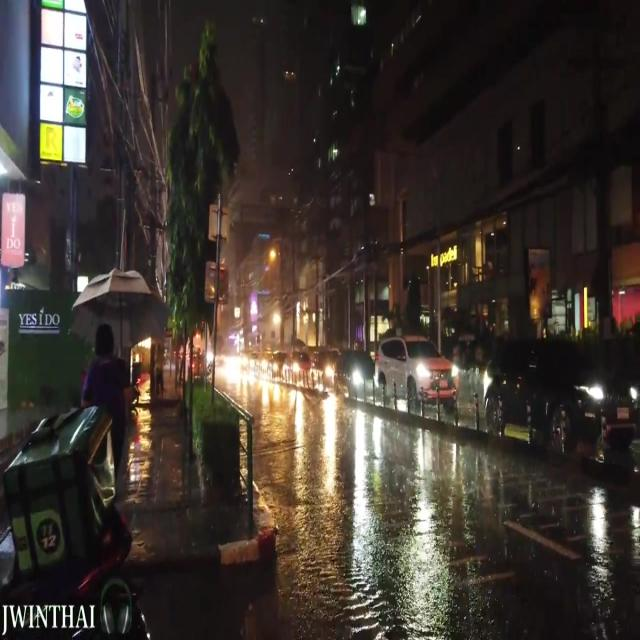Car: (482, 342, 635, 449), (372, 330, 453, 409)
